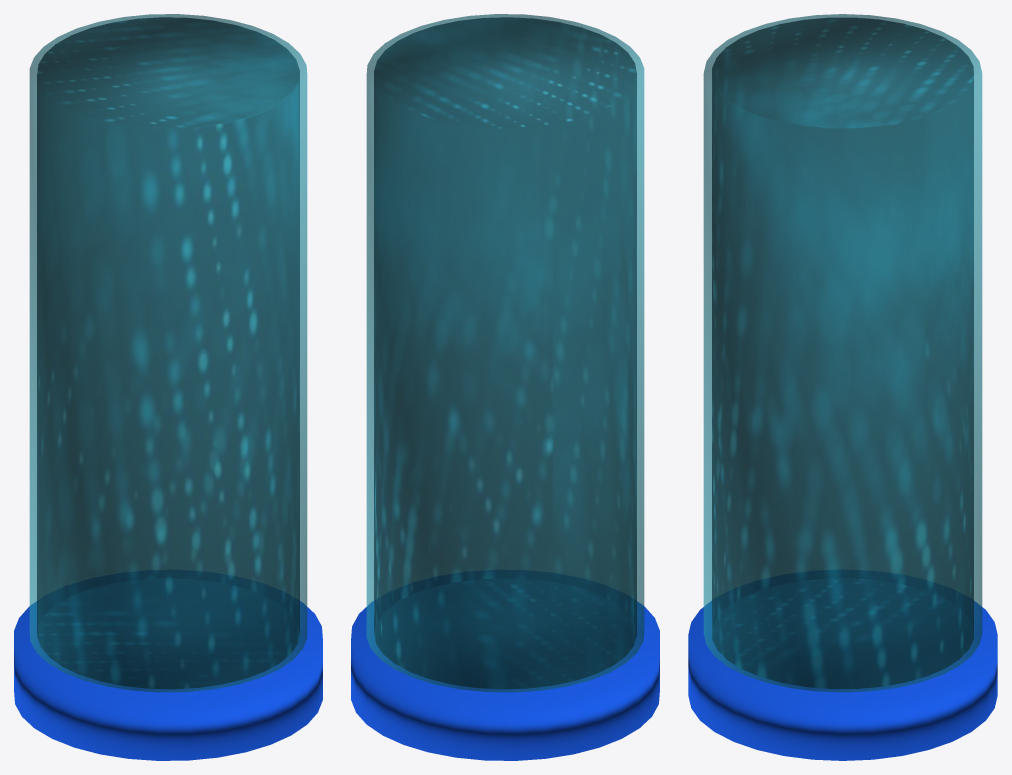
File: teletrasporto_cilindro_12.glb
3 renders of one model, left to right at view 1: azimuth 30°, elevation 25°; view 2: azimuth 150°, elevation 25°; view 3: azimuth 270°, elevation 25°, orthographic.
Visible parts, largest first — view 1: Cilindro.001, Cilindro.002, Cilindro; view 2: Cilindro.001, Cilindro.002, Cilindro; view 3: Cilindro.001, Cilindro.002, Cilindro.
Part boxes in pixels (x1,y1,x2,y2): Cilindro.001: (29, 14, 307, 692); Cilindro.002: (37, 17, 299, 688); Cilindro: (14, 601, 322, 760); Cilindro.001: (366, 14, 644, 692); Cilindro.002: (374, 17, 636, 688); Cilindro: (351, 601, 659, 760); Cilindro.001: (703, 14, 982, 692); Cilindro.002: (712, 18, 973, 688); Cilindro: (688, 601, 997, 760).
Size of the model in its own units: 2 by 4.44 by 2.
